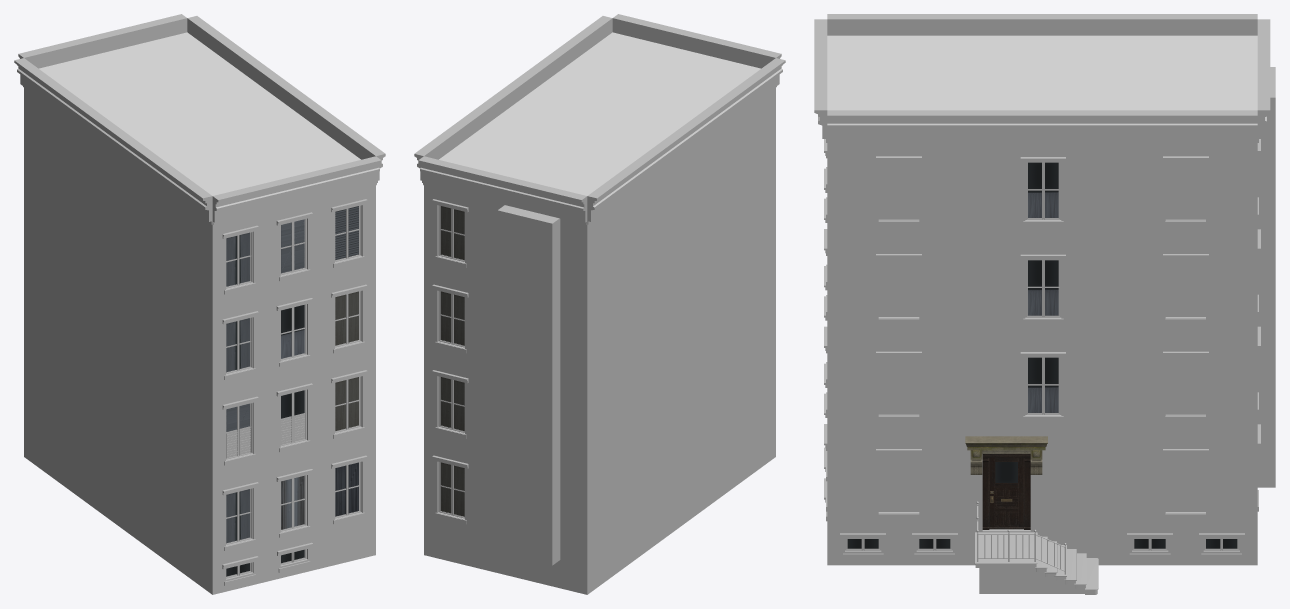
File: House_17.fbx
The picture shows the model from 3 angles, left to right: view 1: azimuth 30°, elevation 25°; view 2: azimuth 150°, elevation 25°; view 3: azimuth 270°, elevation 25°; orthographic projection. The views are drawn at different scales.
Visible parts, largest first — view 1: House_17_LOD0; view 2: House_17_LOD0; view 3: House_17_LOD0.
Part boxes in pixels (<box>): House_17_LOD0: <box>14,14,385,594</box>; House_17_LOD0: <box>414,14,785,594</box>; House_17_LOD0: <box>814,14,1275,594</box>.
Size of what is drawn, in the model's own units: 842 by 1400 by 1286.
